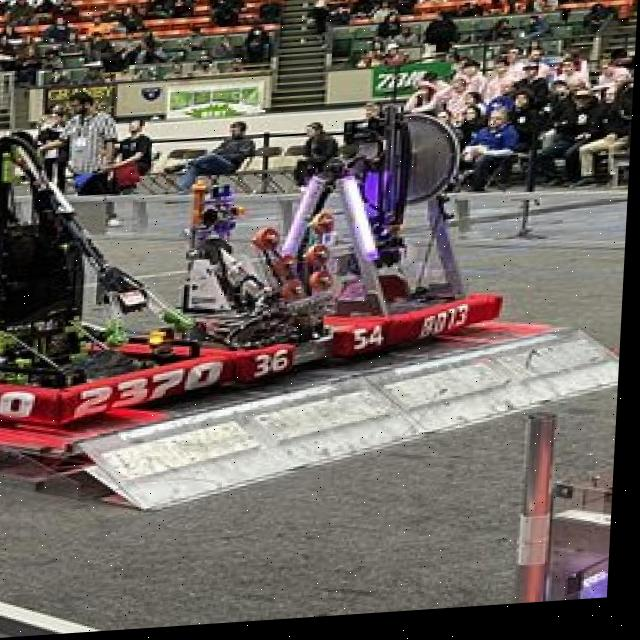robot: (0, 135, 239, 424), (326, 105, 535, 350), (211, 160, 362, 387)
